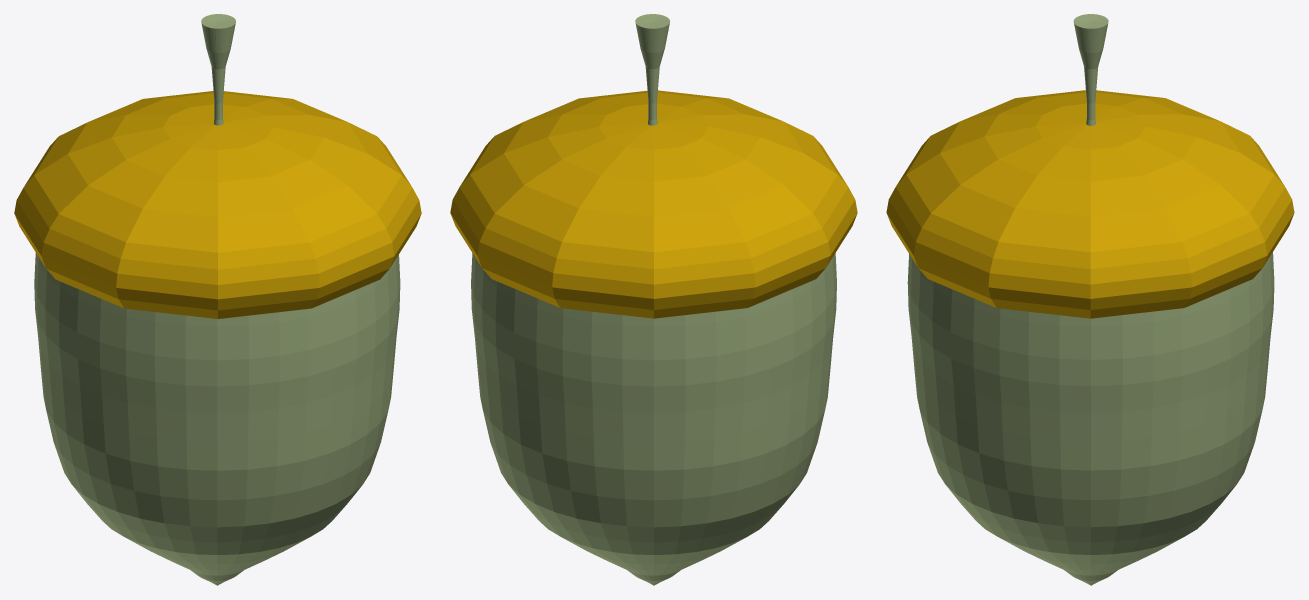
File: nut2.glb
The picture shows the model from 3 angles, left to right: view 1: azimuth 30°, elevation 25°; view 2: azimuth 150°, elevation 25°; view 3: azimuth 270°, elevation 25°; orthographic projection.
Parts seen in each view (by area): view 1: poly.001, sphere.001, poly000000.001; view 2: poly.001, sphere.001, poly000000.001; view 3: poly.001, sphere.001, poly000000.001.
Part boxes in pixels (x1,y1,x2,y2): poly.001: (34,252,400,585); sphere.001: (14,91,421,318); poly000000.001: (201,14,235,125); poly.001: (471,253,836,585); sphere.001: (450,90,857,318); poly000000.001: (635,14,669,125); poly.001: (907,252,1274,585); sphere.001: (886,90,1294,318); poly000000.001: (1073,14,1108,125).
Size of the model in its own units: 1.64 by 2.5 by 1.64.
